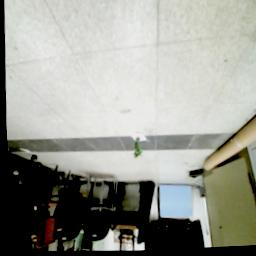herb: (132, 136, 143, 162)
